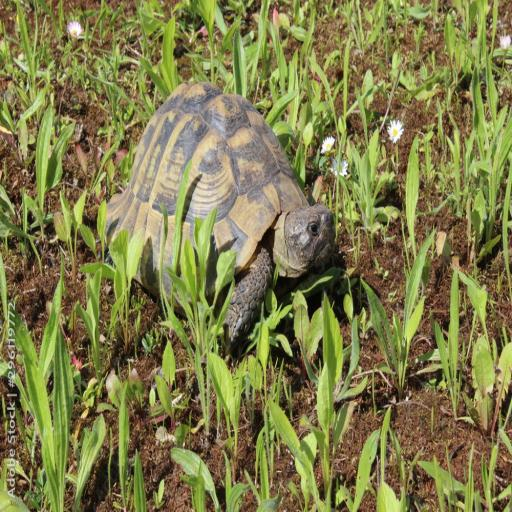turtle: (97, 72, 340, 354)
